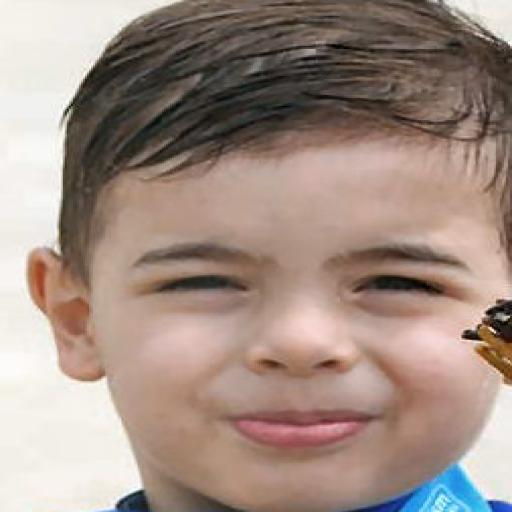Autism: (12, 6, 512, 509)
